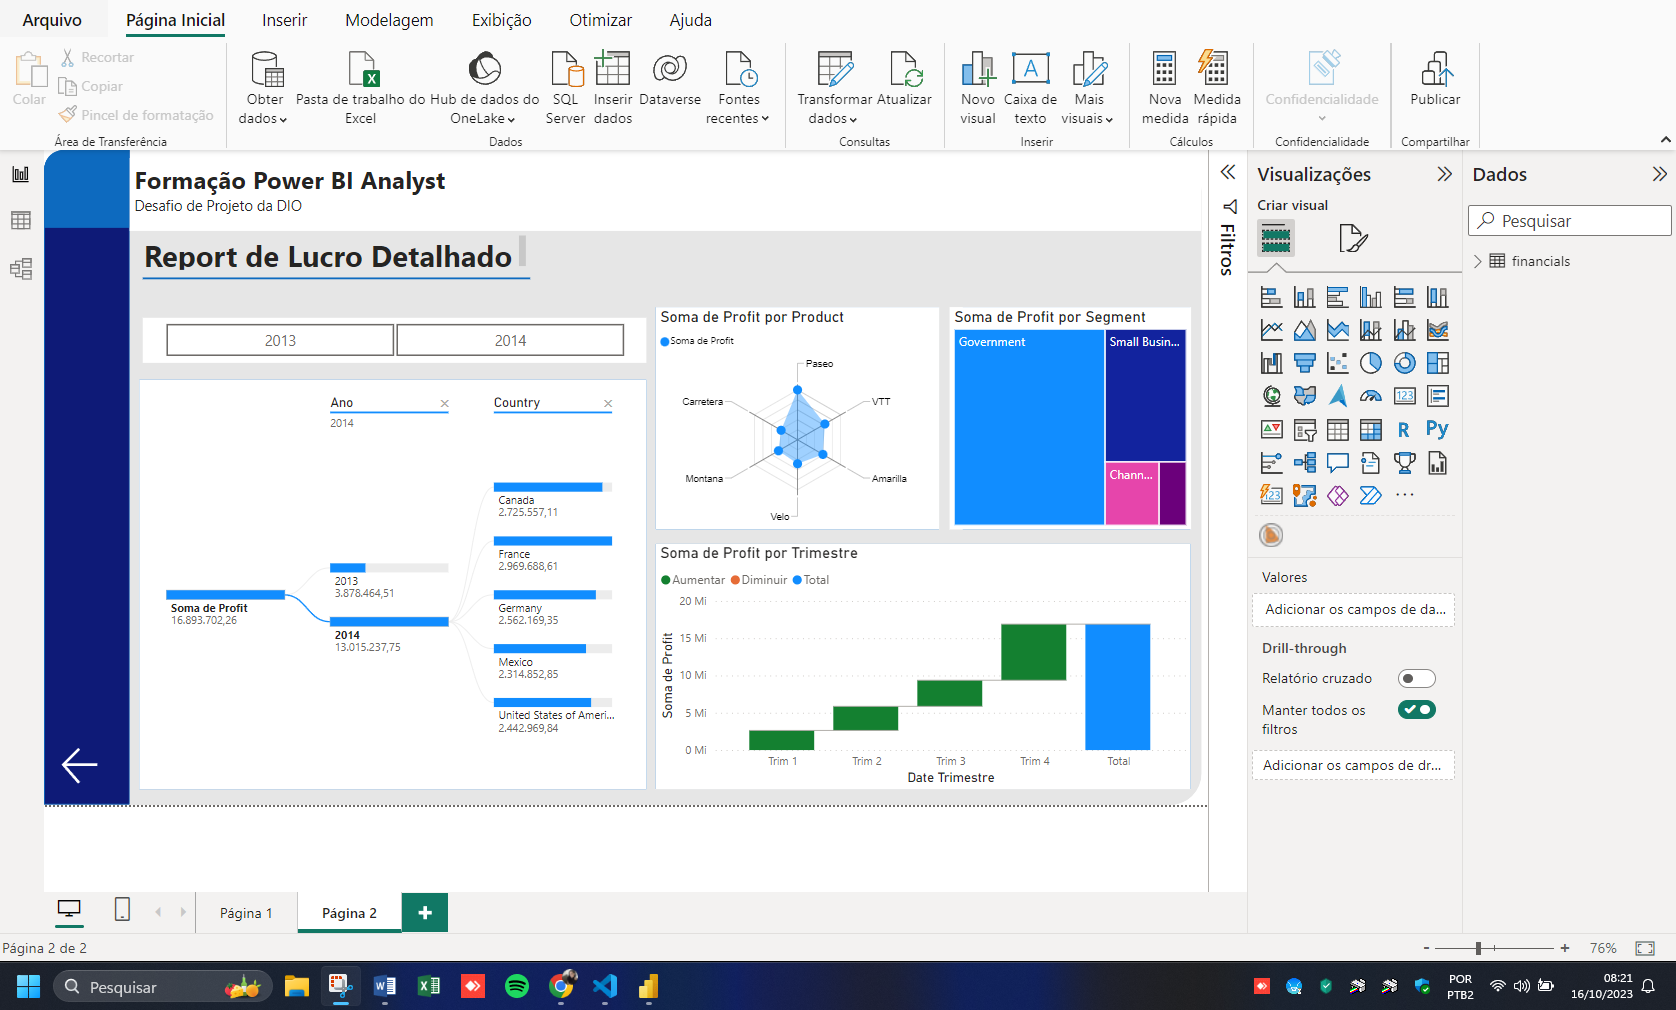

Layout of this report page (visuals, bound fields, positions):
{"tool":"powerbi","page":{"name":"Página 2","canvas":[1280,720],"ordinal":1},"visuals":[{"type":"shape","box":[7.2,10.1,1265.2,710.1],"z":0},{"type":"textbox","box":[104.3,88.4,430.4,47.8],"z":0,"group":"g4"},{"type":"shape","box":[0,0,94.3,720],"z":1000},{"type":"shape","box":[0,0,94.2,85.5],"z":2000},{"type":"textbox","box":[94.2,8.7,1178.3,79.7],"z":3000},{"type":"group","id":"g1","title":"Cartões","box":[108.7,136.2,426.1,10.1],"z":4000},{"type":"group","id":"g2","title":"Sales x país","box":[873.9,493,372.5,223.2],"z":5000},{"type":"group","id":"g3","title":"Sales x Segment","box":[120.3,479.7,355.1,223.2],"z":6000},{"type":"group","id":"g4","title":"Title report","box":[104.3,88.4,430.4,47.8],"z":7000},{"type":"actionButton","box":[14.5,652.2,66.7,50.7],"z":8000},{"type":"shape","box":[104.3,252.2,558,450.7],"z":9000},{"type":"shape","box":[108.7,136.2,426.1,10.1],"z":10000,"group":"g1"},{"type":"shape","box":[672.5,172.5,311.6,244.9],"z":10000},{"type":"shape","box":[1010.1,172.5,250.7,244.9],"z":11000},{"type":"shape","box":[672.5,433.3,588.4,269.6],"z":12000},{"type":"decompositionTreeVisual","fields":{"Analyze":["Sum(financials.Profit)"],"ExplainBy":["financials.Date.Variation.Hierarquia de datas.Ano","financials.Country"]},"box":[104.3,252.2,558,450.7],"z":13000},{"type":"slicer","fields":{"Values":["financials.Year"]},"box":[108.7,184.1,553.6,49.3],"z":14000},{"type":"treemap","fields":{"Values":["Sum(financials.Profit)"],"Group":["financials.Segment"]},"box":[995.7,172.5,265.2,244.9],"z":15000},{"type":"RadarChart1446119667547","fields":{"Y":["Sum(financials.Profit)"],"Category":["financials.Product"]},"box":[672.5,172.5,311.6,244.9],"z":16000},{"type":"waterfallChart","fields":{"Category":["financials.Date.Variation.Hierarquia de datas.Trimestre"],"Y":["Sum(financials.Profit)"]},"box":[672.5,433.3,588.4,269.6],"z":17000}]}

Visuals, with their boxes on the page's 1280x720 design canvas (x1, y1, x2, y2). These are canvas units, not pixel positions in the 1676x1010 screenshot, which may show the page scaled, cropped or inside an application window:
shape: bbox=(7, 10, 1272, 720)
textbox: bbox=(104, 88, 535, 136)
shape: bbox=(0, 0, 94, 720)
shape: bbox=(0, 0, 94, 86)
textbox: bbox=(94, 9, 1272, 88)
"Cartões" group: bbox=(109, 136, 535, 146)
"Sales x país" group: bbox=(874, 493, 1246, 716)
"Sales x Segment" group: bbox=(120, 480, 475, 703)
"Title report" group: bbox=(104, 88, 535, 136)
actionButton: bbox=(14, 652, 81, 703)
shape: bbox=(104, 252, 662, 703)
shape: bbox=(109, 136, 535, 146)
shape: bbox=(672, 172, 984, 417)
shape: bbox=(1010, 172, 1261, 417)
shape: bbox=(672, 433, 1261, 703)
decompositionTreeVisual - Sum(financials.Profit) x financials.Date.Variation.Hierarquia de datas.Ano: bbox=(104, 252, 662, 703)
slicer - financials.Year: bbox=(109, 184, 662, 233)
treemap - Sum(financials.Profit) x financials.Segment: bbox=(996, 172, 1261, 417)
RadarChart1446119667547 - Sum(financials.Profit) x financials.Product: bbox=(672, 172, 984, 417)
waterfallChart - financials.Date.Variation.Hierarquia de datas.Trimestre x Sum(financials.Profit): bbox=(672, 433, 1261, 703)
